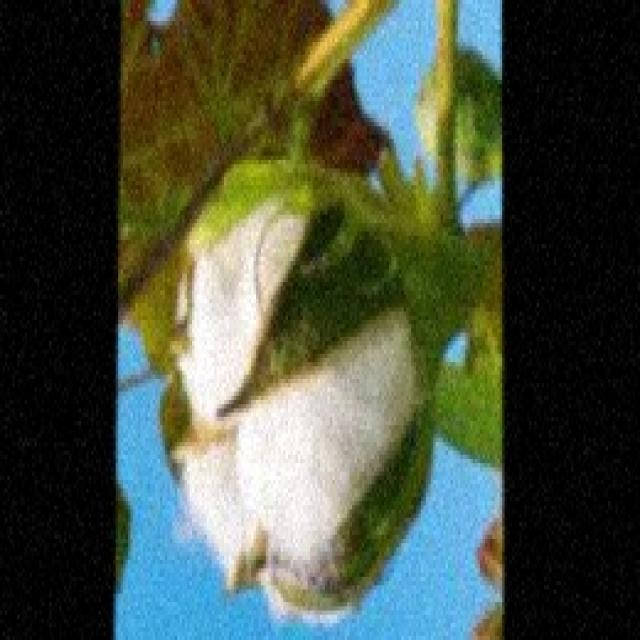Split Cotton Boll: (170, 167, 425, 600)
